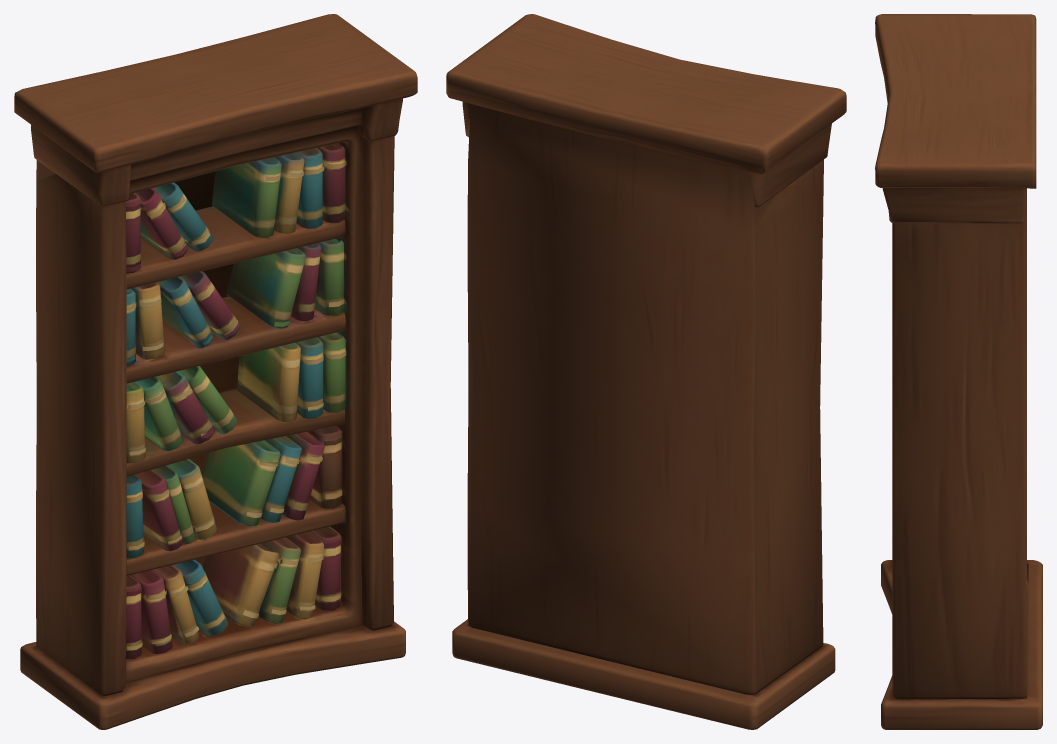
The model's file is bookshelf_tall.glb.
The picture shows the model from 3 angles, left to right: view 1: azimuth 30°, elevation 25°; view 2: azimuth 150°, elevation 25°; view 3: azimuth 270°, elevation 25°; orthographic projection. The views are drawn at different scales.
Parts seen in each view (by area): view 1: bookshelf_tall; view 2: bookshelf_tall; view 3: bookshelf_tall.
Part boxes in pixels (bbox=[...]): bookshelf_tall: bbox=[14, 14, 417, 729]; bookshelf_tall: bbox=[446, 14, 846, 729]; bookshelf_tall: bbox=[875, 14, 1042, 729].
Size of the model in its own units: 2.32 by 4 by 1.07.
Materials: 1 (1 with a texture image).
